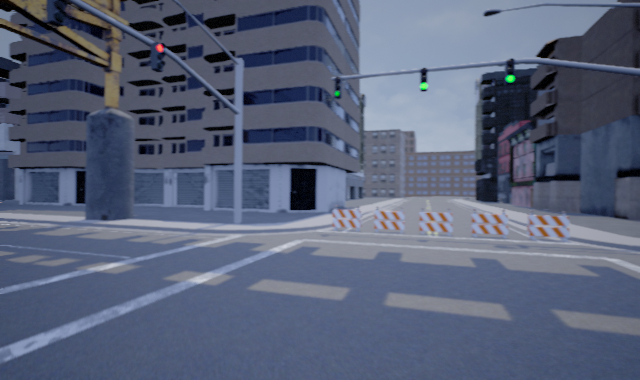pedestrian: (1, 194, 4, 213)
traffic_light: (150, 41, 167, 71), (503, 57, 518, 86), (418, 69, 430, 94), (334, 77, 342, 100)
